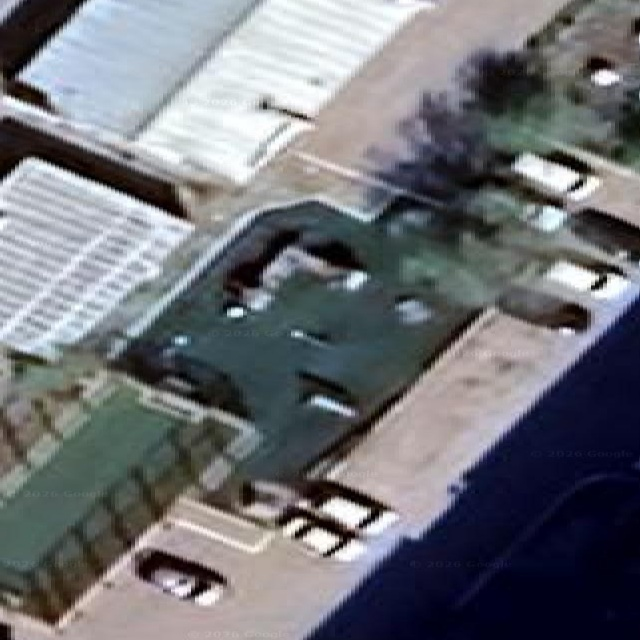car: (300, 480, 397, 535), (136, 550, 226, 604), (279, 507, 364, 560), (512, 151, 600, 200), (495, 287, 590, 332), (544, 259, 628, 299)
